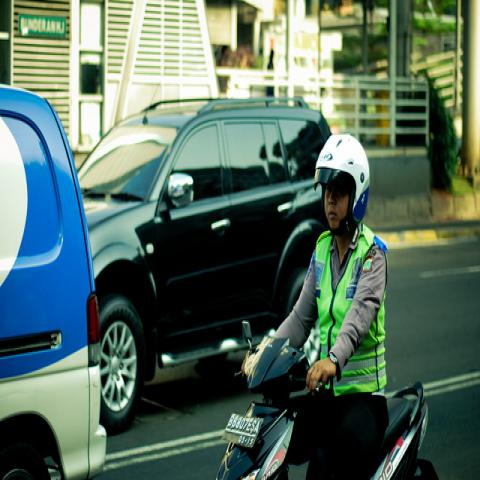car: (79, 96, 333, 424), (0, 86, 107, 479)
motorcycle: (215, 322, 429, 480)
truck: (1, 84, 108, 475)
